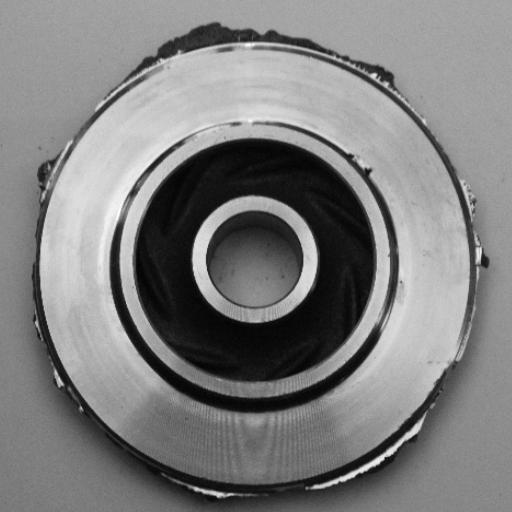casting_with_burr: (29, 20, 491, 499)
crack: (342, 146, 385, 186)
scratch: (173, 111, 267, 154)
